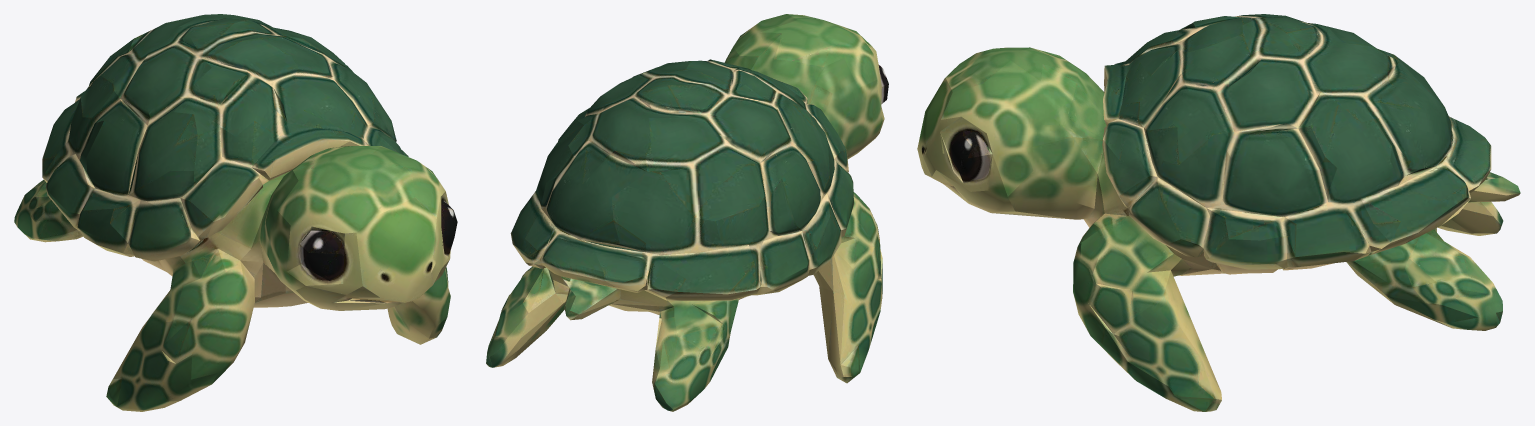
The model's file is toy-turtle.prefab.glb.
The picture shows the model from 3 angles, left to right: view 1: azimuth 30°, elevation 25°; view 2: azimuth 150°, elevation 25°; view 3: azimuth 270°, elevation 25°; orthographic projection. The views are drawn at different scales.
Parts seen in each view (by area): view 1: Prize_Batch0; view 2: Prize_Batch0; view 3: Prize_Batch0.
Boxes of the visible parts, box(x1,y1,x2,y2) form: Prize_Batch0: box(14, 14, 457, 411); Prize_Batch0: box(486, 14, 888, 411); Prize_Batch0: box(917, 14, 1520, 411).
Bounding box in the file's own units: 0.0187 × 0.0184 × 0.032.
Materials: 1 (1 with a texture image).
